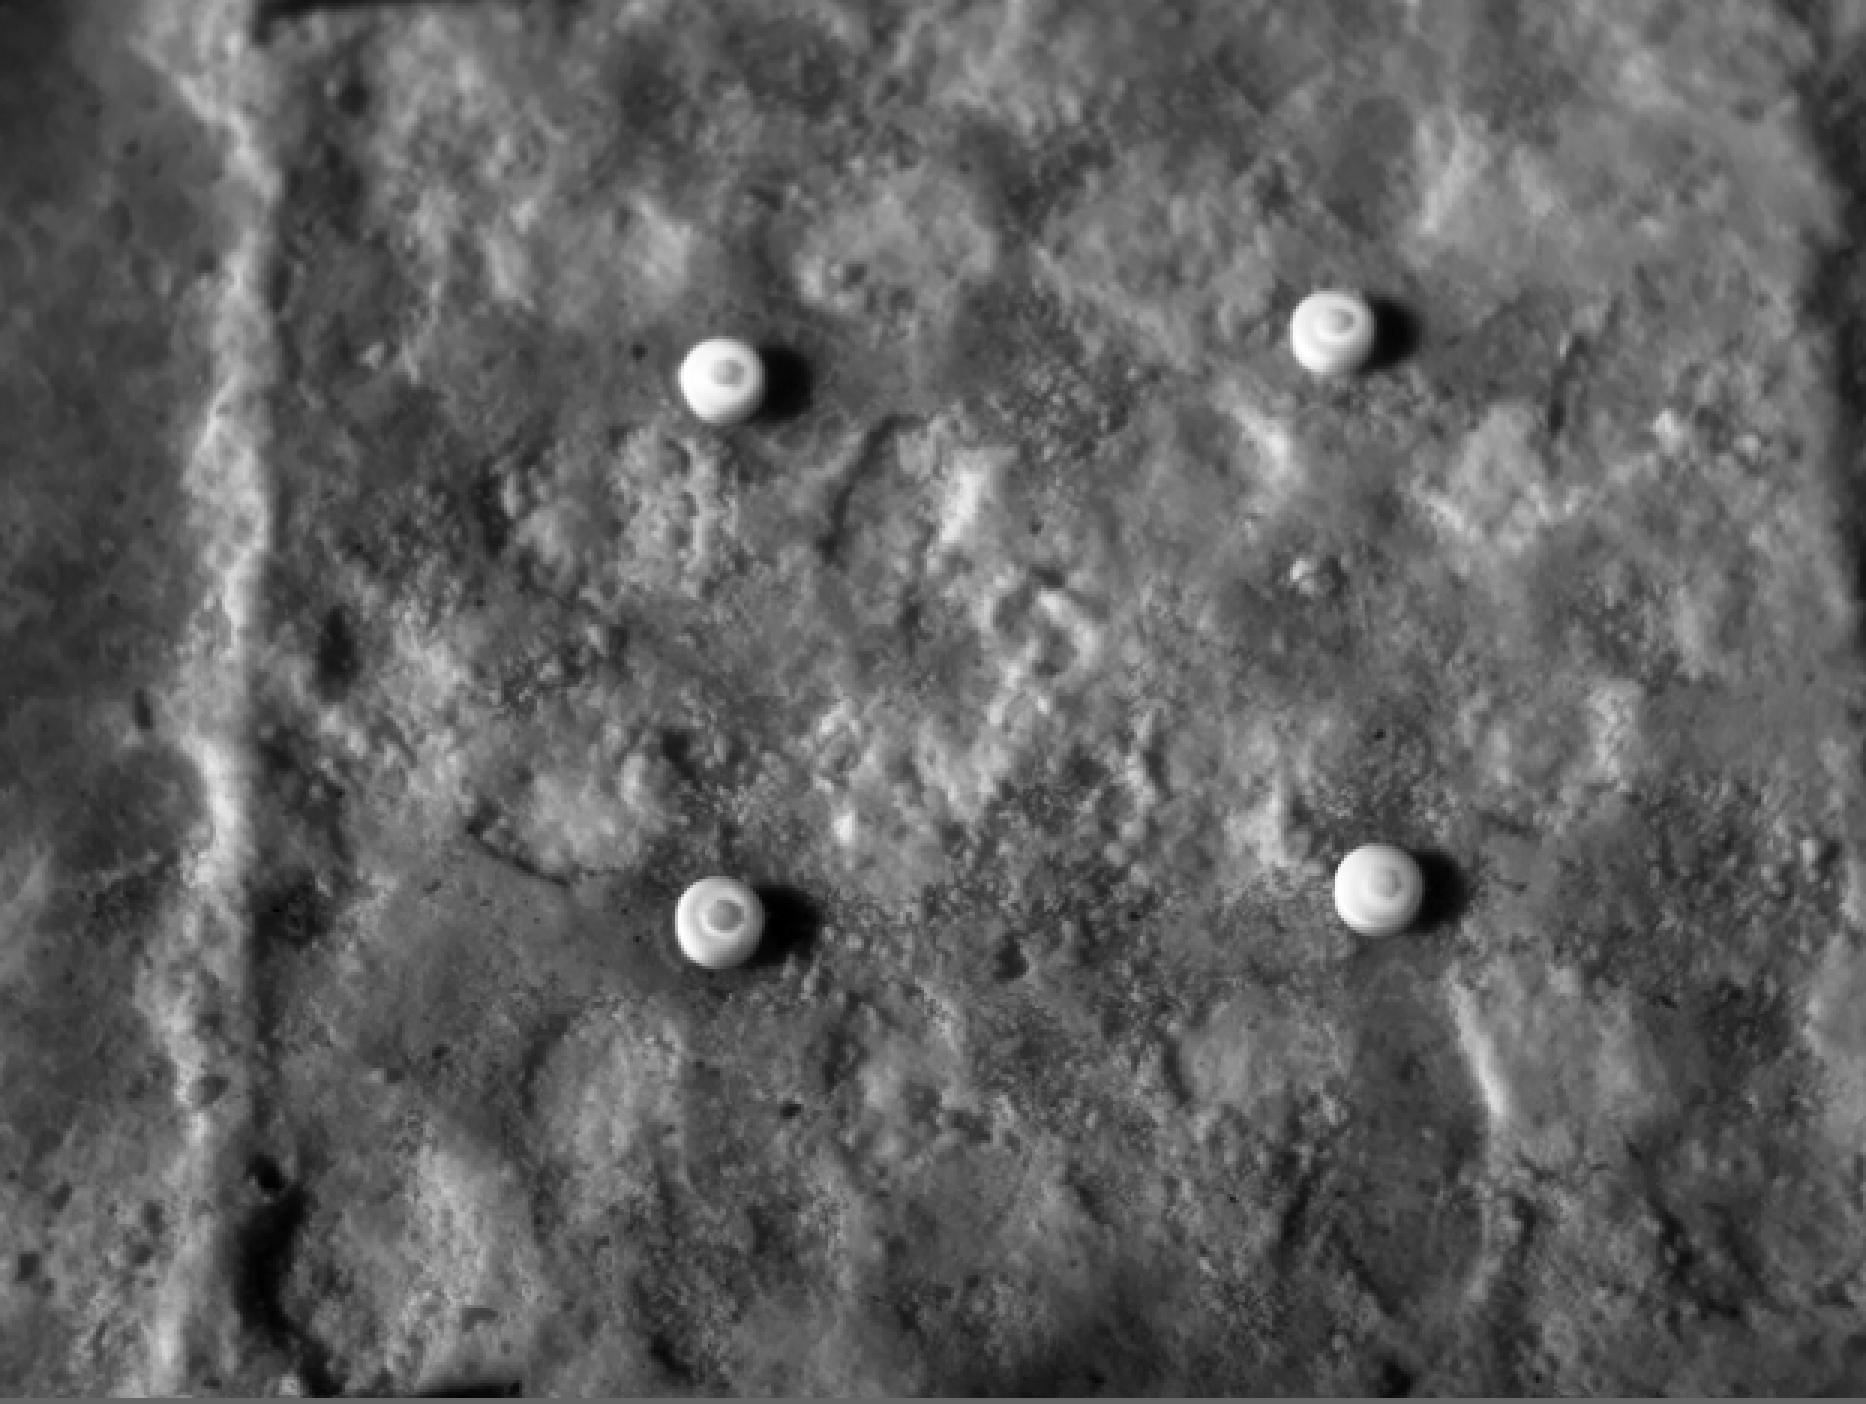mines-gjV8: (1285, 282, 1392, 380), (676, 875, 769, 970), (1338, 845, 1432, 936), (679, 335, 763, 419)
